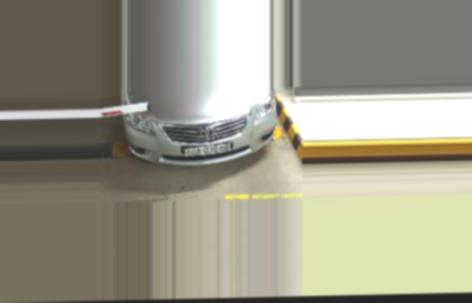License_Plate: (184, 144, 231, 157)
